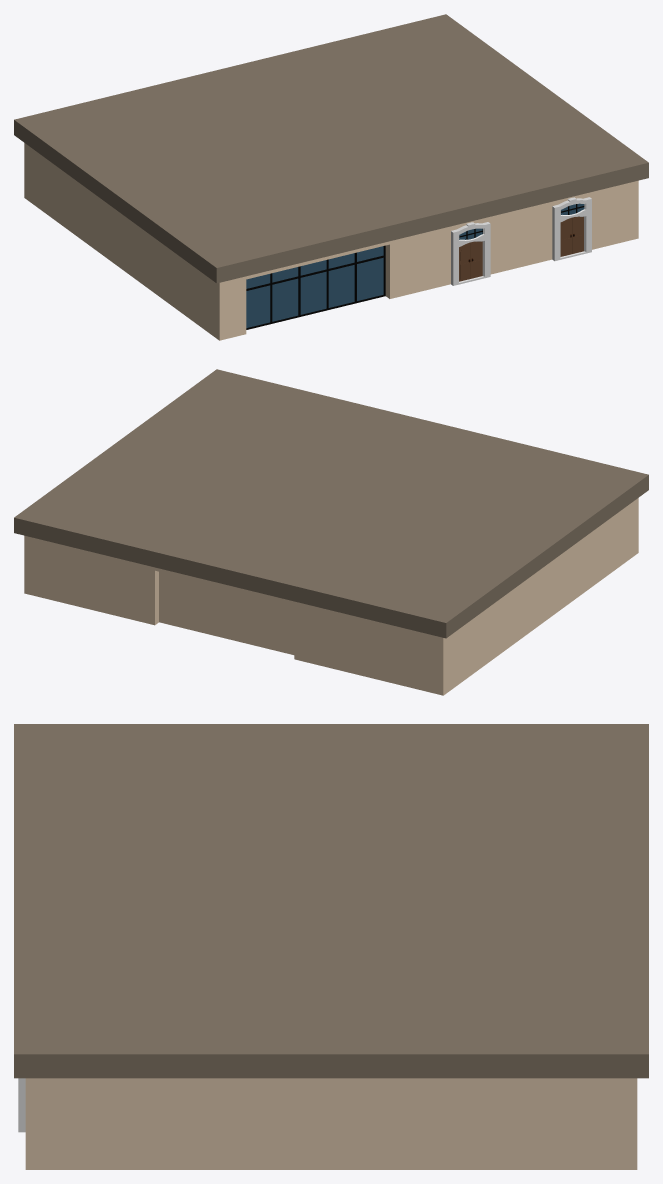
File: Apt6_Base.fbx
The picture shows the model from 3 angles, top to bottom: view 1: azimuth 30°, elevation 25°; view 2: azimuth 150°, elevation 25°; view 3: azimuth 270°, elevation 25°; orthographic projection. The views are drawn at different scales.
Visible parts, largest first — view 1: Apt6_Base_Border, Apt6_Base_Main, Apt6_Base_Windows, Apt4_Base_DoorFrame, Apt4_Base_Door, Apt6_Base_Frame; view 2: Apt6_Base_Border, Apt6_Base_Main; view 3: Apt6_Base_Border, Apt6_Base_Main.
Part boxes in pixels (x1,y1,x2,y2): Apt6_Base_Border: (14, 14, 648, 283); Apt6_Base_Main: (24, 143, 638, 340); Apt6_Base_Windows: (246, 203, 584, 327); Apt4_Base_DoorFrame: (451, 197, 591, 285); Apt4_Base_Door: (459, 216, 583, 281); Apt6_Base_Frame: (246, 204, 584, 329); Apt6_Base_Border: (14, 369, 648, 638); Apt6_Base_Main: (24, 498, 638, 695); Apt6_Base_Border: (14, 724, 648, 1078); Apt6_Base_Main: (25, 1078, 637, 1169).
Bounding box in the file's own units: 2541 × 432 × 2065.
